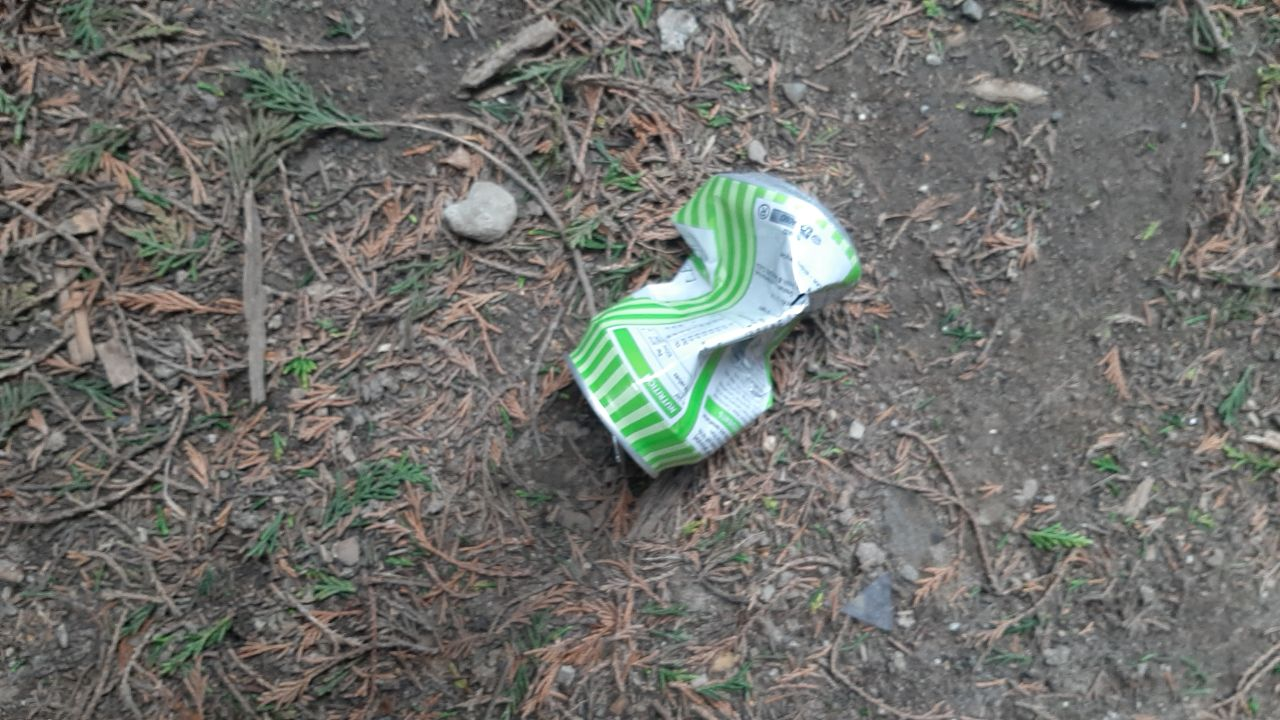Can: (565, 170, 863, 481)
